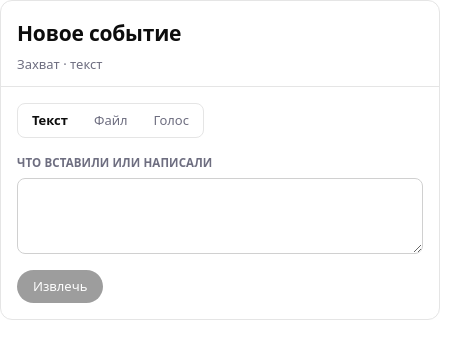
Scenario: модалка и экран › на телефоне это экран: ни окна, ни крестика
The image size is (457, 337).
Click the tab "Файл" at [111, 121], box [82,106,140,135]
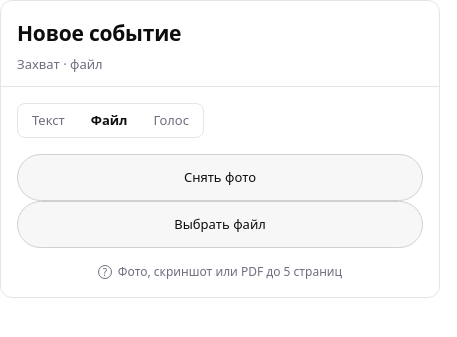
Result: the button "Снять фото" is shown at [17,154,423,201]
